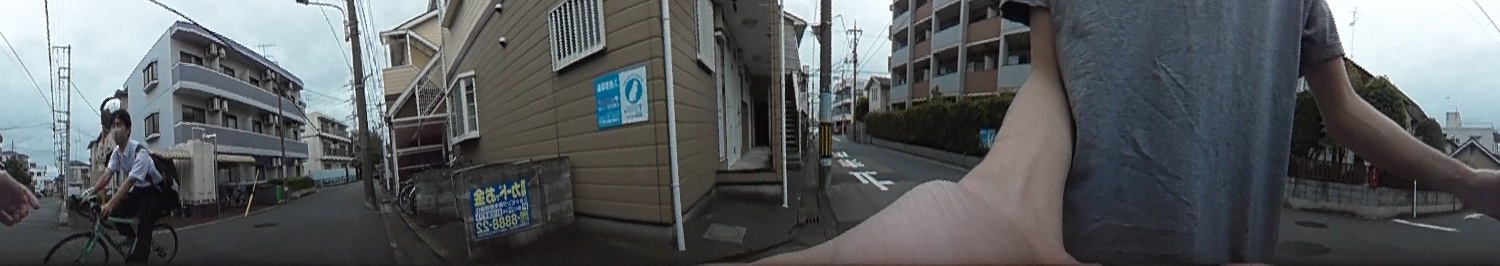person: (82, 104, 178, 266)
